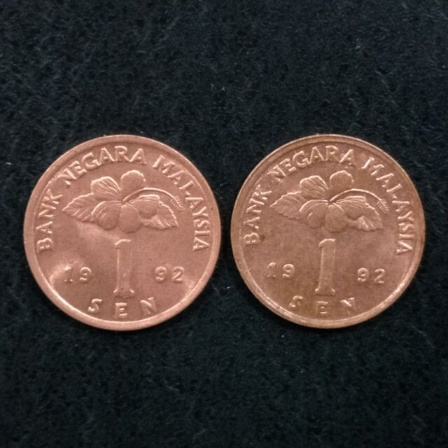1c: (21, 132, 223, 333), (229, 135, 426, 330)
